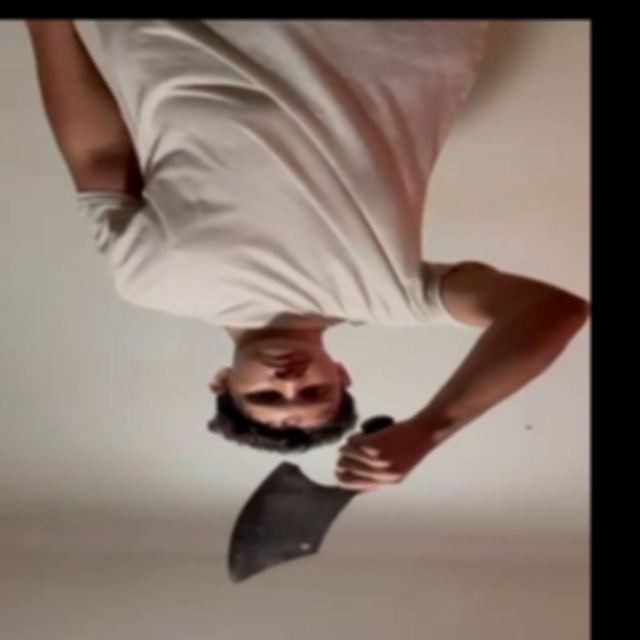Sharp-Object: (225, 460, 348, 584)
